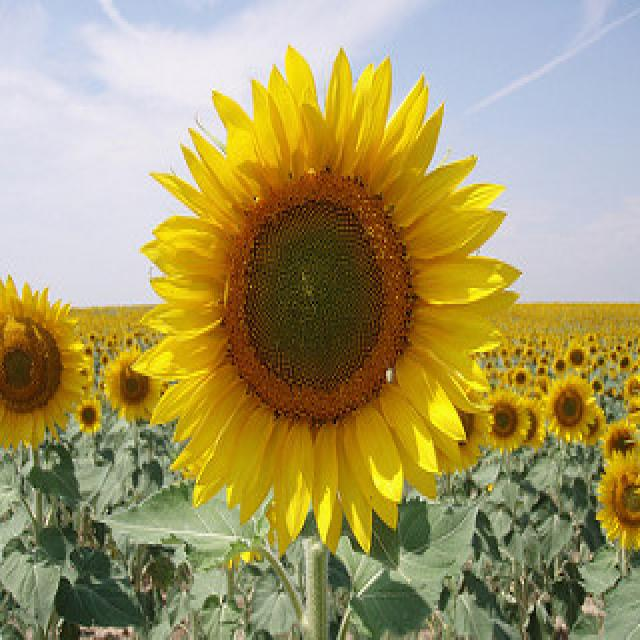sunflower: (136, 41, 524, 554), (0, 275, 86, 453), (486, 337, 640, 396), (592, 446, 640, 558), (100, 341, 164, 424), (541, 372, 603, 447), (483, 384, 533, 459), (594, 416, 640, 469), (73, 395, 105, 440), (547, 349, 573, 379), (564, 341, 588, 371), (510, 364, 532, 393), (612, 352, 636, 376)
